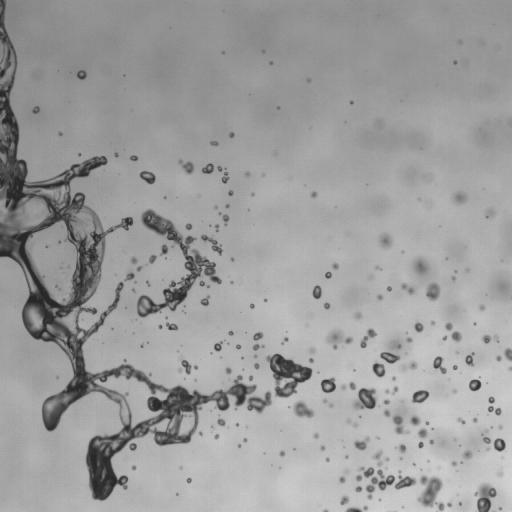droplet: (265, 353, 313, 397), (472, 482, 497, 511), (324, 328, 353, 350), (352, 387, 381, 409), (292, 400, 314, 418), (320, 376, 336, 394), (425, 282, 440, 301), (378, 232, 393, 250), (178, 158, 194, 174), (412, 257, 428, 273), (353, 435, 370, 450), (432, 356, 446, 374), (411, 389, 429, 403), (380, 351, 400, 363), (400, 282, 418, 295), (139, 170, 155, 184), (451, 191, 467, 205), (372, 360, 385, 377), (492, 438, 506, 452), (468, 376, 481, 391), (311, 284, 322, 299), (340, 381, 356, 391), (408, 414, 420, 426), (384, 385, 398, 395), (465, 352, 474, 367), (484, 207, 496, 218), (451, 330, 462, 342), (373, 118, 384, 129), (12, 109, 23, 120), (217, 133, 228, 144), (82, 149, 93, 160), (134, 160, 145, 171), (41, 170, 52, 181), (69, 177, 80, 188), (132, 217, 143, 228), (176, 226, 187, 237), (156, 233, 167, 244), (190, 239, 201, 250), (390, 239, 401, 250), (169, 243, 180, 254), (200, 246, 211, 257), (206, 250, 217, 261), (137, 253, 148, 264), (403, 254, 414, 265), (423, 254, 434, 265), (95, 278, 106, 289), (319, 279, 330, 290), (416, 284, 427, 295), (153, 292, 164, 303), (167, 310, 178, 321), (85, 313, 96, 324), (80, 318, 91, 329), (323, 322, 334, 333), (257, 348, 268, 359), (295, 355, 306, 366), (84, 362, 95, 373), (63, 369, 74, 380), (309, 373, 320, 384), (367, 374, 378, 385), (265, 378, 276, 389), (220, 379, 231, 390), (253, 387, 264, 398), (373, 390, 384, 401), (286, 393, 297, 404), (78, 394, 89, 405), (373, 402, 384, 413), (411, 402, 422, 413), (110, 422, 121, 433), (234, 427, 245, 438), (170, 441, 181, 452), (365, 442, 376, 453), (109, 455, 120, 466), (364, 457, 375, 468), (79, 468, 90, 479), (487, 476, 498, 487), (345, 477, 356, 488), (414, 482, 425, 493), (343, 484, 354, 495), (434, 490, 445, 501), (202, 163, 214, 173), (200, 294, 210, 306), (394, 443, 406, 453), (340, 494, 349, 506), (165, 322, 178, 330), (414, 321, 423, 332), (389, 341, 401, 349), (76, 70, 86, 79), (352, 311, 362, 320), (253, 332, 263, 341), (455, 416, 465, 425), (462, 450, 472, 459), (221, 172, 229, 183), (444, 322, 453, 331), (7, 31, 16, 40), (8, 99, 17, 108), (120, 151, 129, 160), (75, 155, 84, 164), (192, 164, 201, 173), (211, 169, 220, 178), (24, 174, 33, 183), (454, 183, 463, 192), (457, 184, 466, 193), (386, 228, 395, 237), (103, 233, 112, 242), (371, 238, 380, 247), (405, 263, 414, 272), (116, 272, 125, 281), (200, 273, 209, 282), (123, 279, 132, 288), (391, 282, 400, 291), (437, 289, 446, 298), (229, 335, 238, 344), (352, 335, 361, 344), (456, 358, 465, 367), (165, 380, 174, 389), (199, 386, 208, 395), (269, 393, 278, 402), (227, 394, 236, 403), (219, 409, 228, 418), (59, 412, 68, 421), (401, 418, 410, 427), (475, 421, 484, 430), (145, 431, 154, 440), (396, 434, 405, 443), (79, 445, 88, 454), (454, 452, 463, 461), (411, 471, 420, 480), (361, 476, 370, 485), (385, 483, 394, 492), (83, 486, 92, 495), (496, 467, 503, 477), (505, 439, 511, 450), (336, 505, 347, 511), (426, 505, 437, 511), (308, 347, 316, 355), (185, 222, 192, 230), (130, 256, 137, 264), (332, 262, 339, 270), (325, 271, 332, 279), (323, 301, 330, 309), (354, 485, 362, 492), (0, 196, 5, 207), (129, 155, 138, 161), (217, 165, 226, 171), (310, 191, 317, 198), (478, 304, 485, 311), (253, 362, 260, 369), (2, 17, 9, 24), (16, 120, 23, 127), (17, 127, 24, 134), (17, 135, 24, 142), (15, 152, 22, 159), (105, 153, 112, 160), (178, 167, 185, 174), (89, 168, 96, 175), (223, 182, 230, 189), (83, 198, 90, 205), (458, 202, 465, 209), (139, 205, 146, 212), (221, 207, 228, 214), (154, 208, 161, 215), (95, 209, 102, 216), (216, 217, 223, 224), (147, 228, 154, 235), (187, 229, 194, 236), (204, 240, 211, 247), (188, 242, 195, 249), (154, 247, 161, 254), (2, 255, 9, 262), (405, 278, 412, 285), (209, 280, 216, 287), (186, 288, 193, 295), (380, 288, 387, 295), (400, 288, 407, 295), (22, 292, 29, 299), (408, 293, 415, 300), (318, 295, 325, 302), (182, 297, 189, 304), (176, 302, 183, 309), (161, 306, 168, 313), (96, 307, 103, 314), (79, 310, 86, 317), (147, 312, 154, 319), (92, 314, 99, 321), (421, 320, 428, 327), (409, 328, 416, 335), (445, 329, 452, 336), (342, 330, 349, 337), (365, 338, 372, 345), (400, 339, 407, 346), (47, 340, 54, 347), (80, 343, 87, 350), (390, 347, 397, 354), (282, 352, 289, 359), (500, 355, 507, 362), (377, 357, 384, 364), (187, 358, 194, 365), (111, 361, 118, 368), (105, 363, 112, 370), (133, 363, 140, 370), (405, 367, 412, 374), (142, 368, 149, 375), (250, 368, 257, 375), (229, 372, 236, 379), (149, 375, 156, 382), (242, 378, 249, 385), (295, 382, 302, 389), (364, 382, 371, 389), (59, 383, 66, 390), (74, 398, 81, 405), (374, 398, 381, 405), (208, 399, 215, 406), (241, 400, 248, 407), (491, 401, 498, 408), (305, 402, 312, 409), (67, 403, 74, 410), (262, 405, 269, 412), (287, 407, 294, 414), (389, 409, 396, 416), (300, 414, 307, 421), (351, 415, 358, 422), (464, 415, 471, 422), (417, 421, 424, 428), (389, 422, 396, 429), (38, 423, 45, 430), (215, 424, 222, 431), (413, 424, 420, 431), (108, 428, 115, 435), (426, 431, 433, 438), (190, 433, 197, 440), (421, 436, 428, 443), (315, 438, 322, 445), (163, 443, 170, 450), (122, 444, 129, 451), (458, 446, 465, 453), (469, 446, 476, 453), (394, 449, 401, 456), (320, 450, 327, 457), (471, 450, 478, 457), (382, 470, 389, 477), (425, 471, 432, 478), (113, 483, 120, 490), (471, 484, 478, 491), (360, 488, 367, 495), (451, 499, 458, 506), (345, 501, 352, 508), (248, 373, 254, 381), (382, 398, 390, 404), (209, 141, 218, 146), (469, 506, 478, 511), (136, 265, 143, 271), (367, 273, 373, 280), (376, 294, 383, 300), (313, 432, 319, 439), (279, 450, 285, 457), (450, 460, 457, 466), (214, 224, 219, 232), (374, 265, 382, 270), (210, 425, 215, 433), (228, 132, 234, 138), (244, 171, 250, 177), (406, 337, 412, 343), (496, 355, 502, 361), (308, 357, 314, 363), (3, 0, 12, 4), (228, 190, 233, 196), (451, 276, 456, 282), (442, 334, 447, 340), (452, 364, 457, 370), (452, 388, 457, 394), (498, 424, 503, 430), (214, 433, 219, 439), (320, 445, 325, 451), (186, 477, 191, 483), (442, 507, 449, 511), (58, 131, 63, 136), (45, 244, 50, 249), (386, 286, 391, 291), (131, 288, 136, 293), (249, 303, 254, 308), (430, 320, 435, 325), (228, 330, 233, 335), (236, 344, 241, 349), (472, 417, 477, 422), (429, 439, 434, 444), (486, 446, 491, 451), (131, 465, 136, 470), (12, 43, 17, 48), (16, 57, 21, 62), (79, 65, 84, 70), (79, 78, 84, 83), (29, 104, 34, 109), (38, 105, 43, 110), (33, 113, 38, 118), (224, 130, 229, 135), (233, 132, 238, 137), (210, 136, 215, 141), (16, 143, 21, 148), (210, 144, 215, 149), (96, 152, 101, 157), (182, 158, 187, 163), (201, 162, 206, 167), (25, 163, 30, 168), (65, 164, 70, 169), (98, 164, 103, 169), (212, 166, 217, 171), (59, 167, 64, 172), (218, 171, 223, 176), (204, 172, 209, 177), (154, 176, 159, 181), (141, 179, 146, 184), (307, 188, 312, 193), (232, 191, 237, 196), (316, 191, 321, 196), (69, 192, 74, 197), (314, 195, 319, 200), (123, 212, 128, 217), (480, 212, 485, 217), (98, 215, 103, 220), (486, 217, 491, 222), (115, 219, 120, 224), (210, 225, 215, 230), (102, 226, 107, 231), (118, 226, 123, 231), (206, 232, 211, 237), (212, 235, 217, 240), (168, 239, 173, 244), (174, 243, 179, 248), (166, 248, 171, 253), (177, 248, 182, 253), (213, 250, 218, 255), (145, 253, 150, 258), (181, 257, 186, 262), (153, 258, 158, 263), (334, 258, 339, 263), (135, 261, 140, 266), (100, 262, 105, 267), (147, 262, 152, 267), (337, 262, 342, 267), (213, 265, 218, 270), (328, 267, 333, 272), (132, 269, 137, 274), (185, 269, 190, 274), (195, 276, 200, 281), (112, 283, 117, 288), (163, 283, 168, 288), (308, 286, 313, 291), (118, 290, 123, 295), (145, 291, 150, 296), (320, 291, 325, 296), (201, 293, 206, 298), (134, 294, 139, 299), (110, 295, 115, 300), (309, 295, 314, 300), (372, 295, 377, 300), (424, 296, 429, 301), (108, 298, 113, 303), (377, 299, 382, 304), (479, 299, 484, 304), (116, 300, 121, 305), (483, 302, 488, 307), (200, 304, 205, 309), (474, 306, 479, 311), (360, 310, 365, 315), (133, 312, 138, 317), (17, 315, 22, 320), (137, 315, 142, 320), (103, 316, 108, 321), (443, 318, 448, 323), (18, 319, 23, 324), (97, 325, 102, 330), (162, 325, 167, 330), (373, 327, 378, 332), (450, 327, 455, 332), (252, 328, 257, 333), (261, 330, 266, 335), (362, 330, 367, 335), (416, 331, 421, 336), (90, 332, 95, 337), (281, 332, 286, 337), (285, 332, 290, 337), (488, 332, 493, 337), (27, 334, 32, 339), (226, 334, 231, 339), (446, 335, 451, 340), (37, 338, 42, 343), (214, 338, 219, 343), (256, 338, 261, 343), (489, 338, 494, 343), (251, 339, 256, 344), (479, 340, 484, 345), (407, 341, 412, 346), (336, 342, 341, 347), (343, 342, 348, 347), (327, 343, 332, 348), (209, 346, 214, 351), (256, 347, 261, 352), (384, 347, 389, 352), (212, 349, 217, 354), (250, 349, 255, 354), (268, 351, 273, 356), (310, 353, 315, 358), (500, 353, 505, 358), (491, 356, 496, 361), (251, 358, 256, 363), (125, 359, 130, 364), (393, 360, 398, 365), (428, 361, 433, 366), (416, 362, 421, 367), (440, 362, 445, 367), (189, 367, 194, 372), (368, 367, 373, 372), (435, 367, 440, 372), (221, 369, 226, 374), (268, 369, 273, 374), (310, 371, 315, 376), (370, 371, 375, 376), (383, 371, 388, 376), (324, 374, 329, 379), (377, 376, 382, 381), (479, 378, 484, 383), (303, 379, 308, 384), (333, 379, 338, 384), (464, 379, 469, 384), (344, 380, 349, 385), (392, 380, 397, 385), (316, 384, 321, 389), (479, 384, 484, 389), (215, 385, 220, 390), (334, 385, 339, 390), (345, 385, 350, 390), (355, 385, 360, 390), (397, 385, 402, 390), (419, 385, 424, 390), (388, 386, 393, 391), (414, 386, 419, 391), (465, 387, 470, 392), (477, 387, 482, 392), (270, 389, 275, 394), (474, 389, 479, 394), (329, 390, 334, 395), (322, 391, 327, 396), (394, 391, 399, 396), (408, 391, 413, 396), (45, 392, 50, 397), (99, 392, 104, 397), (383, 394, 388, 399), (407, 394, 412, 399), (493, 395, 498, 400), (423, 398, 428, 403), (413, 401, 418, 406), (113, 402, 118, 407), (383, 403, 388, 408), (373, 404, 378, 409), (362, 406, 367, 411), (214, 407, 219, 412), (251, 408, 256, 413), (196, 409, 201, 414), (490, 410, 495, 415), (476, 415, 481, 420), (197, 416, 202, 421), (224, 419, 229, 424), (471, 421, 476, 426), (118, 423, 123, 428), (492, 423, 497, 428), (347, 424, 352, 429), (424, 424, 429, 429), (195, 426, 200, 431), (311, 428, 316, 433), (99, 431, 104, 436), (308, 432, 313, 437), (484, 432, 489, 437), (88, 433, 93, 438), (318, 433, 323, 438), (369, 434, 374, 439), (357, 436, 362, 441), (417, 436, 422, 441), (129, 438, 134, 443), (237, 438, 242, 443), (125, 441, 130, 446), (240, 441, 245, 446), (365, 441, 370, 446), (395, 441, 400, 446), (488, 441, 493, 446), (482, 442, 487, 447), (504, 442, 509, 447), (154, 443, 159, 448), (350, 443, 355, 448), (354, 447, 359, 452), (275, 448, 280, 453), (283, 448, 288, 453), (342, 449, 347, 454), (493, 449, 498, 454), (500, 449, 505, 454), (283, 453, 288, 458), (277, 455, 282, 460), (449, 456, 454, 461), (462, 457, 467, 462), (130, 460, 135, 465), (382, 460, 387, 465), (455, 463, 460, 468), (363, 465, 368, 470), (451, 465, 456, 470), (373, 466, 378, 471), (501, 467, 506, 472), (338, 471, 343, 476), (400, 472, 405, 477), (407, 472, 412, 477), (115, 473, 120, 478), (334, 476, 339, 481), (394, 477, 399, 482), (125, 480, 130, 485), (339, 482, 344, 487), (403, 485, 408, 490), (494, 486, 499, 491), (473, 495, 478, 500), (336, 496, 341, 501), (95, 498, 100, 503), (321, 504, 326, 509), (392, 375, 396, 381), (198, 430, 202, 436), (325, 456, 329, 462), (0, 215, 3, 222), (306, 78, 311, 82), (349, 100, 353, 105), (114, 152, 118, 157), (261, 172, 265, 177), (250, 192, 255, 196), (213, 205, 218, 209), (158, 324, 162, 329), (454, 350, 459, 354), (253, 354, 258, 358), (243, 437, 247, 442), (344, 454, 348, 459), (437, 464, 441, 469), (458, 501, 462, 506), (458, 40, 462, 44), (269, 61, 273, 65), (453, 60, 457, 64), (417, 197, 421, 201), (225, 204, 229, 208), (230, 257, 234, 261), (465, 268, 469, 272), (140, 343, 144, 347), (425, 421, 429, 425), (235, 422, 239, 426), (237, 443, 241, 447), (498, 506, 502, 510), (508, 366, 511, 371), (412, 462, 415, 467), (508, 344, 511, 349), (508, 370, 511, 375), (365, 508, 370, 511), (399, 508, 404, 511), (221, 51, 225, 54), (78, 152, 81, 156), (230, 280, 233, 284), (264, 298, 267, 302), (56, 375, 59, 379), (194, 378, 197, 382), (400, 400, 404, 403), (358, 414, 361, 418), (430, 427, 434, 430), (399, 456, 402, 460), (262, 50, 265, 53), (276, 106, 279, 109), (163, 196, 166, 199), (401, 250, 404, 253), (445, 257, 448, 260), (500, 259, 503, 262), (454, 270, 457, 273), (134, 280, 137, 283), (124, 306, 127, 309), (473, 322, 476, 325), (373, 348, 376, 351), (241, 356, 244, 359), (316, 370, 319, 373), (453, 438, 456, 441), (292, 447, 295, 450), (426, 459, 429, 462), (179, 466, 182, 469), (278, 466, 281, 469), (378, 498, 381, 501), (401, 505, 404, 508), (268, 58, 271, 61), (272, 60, 275, 63), (450, 60, 453, 63), (456, 60, 459, 63), (16, 62, 19, 65), (267, 63, 270, 66), (455, 63, 458, 66), (270, 64, 273, 67), (76, 77, 79, 80), (352, 99, 355, 102), (346, 100, 349, 103), (351, 103, 354, 106), (279, 106, 282, 109), (60, 129, 63, 132), (55, 132, 58, 135), (58, 135, 61, 138), (77, 149, 80, 152), (114, 149, 117, 152), (117, 152, 120, 155), (133, 152, 136, 155), (104, 154, 107, 157), (175, 159, 178, 162), (132, 160, 135, 163), (209, 160, 212, 163), (140, 168, 143, 171), (145, 168, 148, 171), (221, 168, 224, 171), (225, 168, 228, 171), (227, 173, 230, 176), (226, 179, 229, 182), (219, 180, 222, 183), (313, 188, 316, 191), (248, 191, 251, 194), (225, 192, 228, 195), (161, 193, 164, 196), (166, 195, 169, 198), (228, 195, 231, 198), (252, 195, 255, 198), (160, 197, 163, 200), (244, 208, 247, 211), (215, 209, 218, 212), (219, 214, 222, 217), (483, 217, 486, 220), (188, 220, 191, 223), (226, 220, 229, 223), (211, 223, 214, 226), (191, 225, 194, 228), (220, 251, 223, 254), (162, 253, 165, 256), (233, 257, 236, 260), (228, 259, 231, 262), (378, 264, 381, 267), (454, 266, 457, 269), (140, 267, 143, 270), (376, 268, 379, 271), (324, 269, 327, 272), (452, 272, 455, 275), (322, 275, 325, 278), (229, 277, 232, 280), (327, 277, 330, 280), (448, 277, 451, 280), (232, 278, 235, 281), (454, 278, 457, 281), (174, 279, 177, 282), (148, 280, 151, 283), (24, 283, 27, 286), (144, 283, 147, 286), (229, 283, 232, 286), (388, 283, 391, 286), (203, 284, 206, 287), (384, 284, 387, 287), (390, 289, 393, 292), (263, 295, 266, 298), (260, 297, 263, 300), (207, 298, 210, 301), (263, 301, 266, 304), (253, 302, 256, 305), (246, 304, 249, 307), (329, 304, 332, 307), (253, 305, 256, 308), (248, 307, 251, 310), (322, 307, 325, 310), (483, 308, 486, 311), (433, 318, 436, 321), (419, 320, 422, 323), (475, 321, 478, 324), (175, 322, 178, 325), (470, 322, 473, 325), (155, 325, 158, 328), (228, 327, 231, 330), (112, 328, 115, 331), (231, 328, 234, 331), (170, 329, 173, 332), (251, 332, 254, 335), (287, 336, 290, 339), (497, 337, 500, 340), (280, 338, 283, 341), (440, 339, 443, 342), (237, 341, 240, 344), (142, 343, 145, 346), (220, 343, 223, 346), (137, 344, 140, 347), (232, 344, 235, 347), (139, 347, 142, 350), (234, 347, 237, 350), (361, 347, 364, 350), (237, 348, 240, 351), (61, 350, 64, 353), (176, 352, 179, 355), (241, 353, 244, 356), (437, 353, 440, 356), (237, 355, 240, 358), (471, 355, 474, 358), (243, 356, 246, 359), (240, 359, 243, 362), (495, 360, 498, 363), (463, 361, 466, 364), (251, 365, 254, 368), (197, 366, 200, 369), (354, 366, 357, 369), (349, 368, 352, 371), (452, 369, 455, 372), (352, 371, 355, 374), (441, 373, 444, 376), (52, 376, 55, 379), (395, 376, 398, 379), (475, 376, 478, 379), (485, 397, 488, 400), (325, 402, 328, 405), (488, 402, 491, 405), (328, 407, 331, 410), (500, 407, 503, 410), (485, 409, 488, 412), (499, 412, 502, 415), (455, 414, 458, 417), (473, 414, 476, 417), (116, 415, 119, 418), (462, 417, 465, 420), (426, 418, 429, 421), (233, 420, 236, 423), (238, 421, 241, 424), (462, 423, 465, 426), (233, 425, 236, 428), (487, 426, 490, 429), (209, 427, 212, 430), (201, 430, 204, 433), (212, 432, 215, 435), (477, 432, 480, 435), (376, 433, 379, 436), (218, 434, 221, 437), (243, 434, 246, 437), (480, 435, 483, 438), (216, 437, 219, 440), (312, 437, 315, 440), (246, 439, 249, 442), (433, 439, 436, 442), (456, 441, 459, 444), (234, 444, 237, 447), (292, 444, 295, 447), (404, 444, 407, 447), (415, 444, 418, 447), (317, 445, 320, 448), (135, 446, 138, 449), (295, 447, 298, 450), (324, 447, 327, 450), (419, 447, 422, 450), (130, 449, 133, 452), (292, 450, 295, 453), (341, 454, 344, 457), (347, 455, 350, 458), (427, 456, 430, 459), (322, 457, 325, 460), (329, 458, 332, 461), (344, 458, 347, 461), (399, 459, 402, 462), (423, 459, 426, 462), (325, 461, 328, 464), (456, 461, 459, 464), (415, 462, 418, 465), (135, 466, 138, 469), (126, 474, 129, 477), (187, 474, 190, 477), (184, 476, 187, 479), (183, 479, 186, 482), (190, 480, 193, 483), (177, 490, 180, 493), (172, 492, 175, 495), (175, 495, 178, 498), (380, 498, 383, 501), (461, 502, 464, 505), (111, 327, 113, 330), (405, 331, 407, 334), (227, 342, 229, 345), (176, 350, 179, 352), (210, 351, 212, 354), (245, 425, 247, 428), (490, 426, 493, 428), (458, 444, 461, 446), (262, 452, 265, 454), (501, 456, 503, 459), (460, 461, 463, 463), (176, 492, 178, 495), (499, 509, 502, 511), (123, 74, 125, 76), (344, 120, 346, 122), (247, 209, 249, 211), (209, 224, 211, 226), (132, 332, 134, 334), (405, 352, 407, 354), (220, 356, 222, 358), (242, 368, 244, 370), (288, 406, 290, 408), (343, 446, 345, 448), (420, 468, 422, 470), (81, 319, 83, 320), (245, 331, 246, 333), (285, 331, 287, 332), (147, 341, 148, 343), (227, 426, 228, 428), (335, 206, 336, 207), (184, 378, 185, 379), (478, 450, 479, 451)
ligament: (383, 408, 410, 434), (200, 234, 223, 255), (360, 328, 377, 348), (417, 426, 428, 448), (398, 360, 417, 372), (28, 106, 44, 117), (218, 211, 229, 226), (481, 334, 499, 343), (213, 339, 225, 351), (481, 428, 490, 444), (344, 505, 368, 511), (345, 418, 359, 428), (339, 469, 349, 483), (504, 347, 511, 362), (252, 343, 265, 351), (322, 398, 333, 407), (224, 366, 231, 380), (217, 414, 225, 426), (280, 336, 288, 345), (145, 280, 150, 287), (322, 508, 329, 511), (374, 436, 380, 439), (181, 310, 186, 313), (353, 367, 356, 371), (387, 510, 397, 511), (165, 316, 167, 320), (456, 470, 458, 471)
